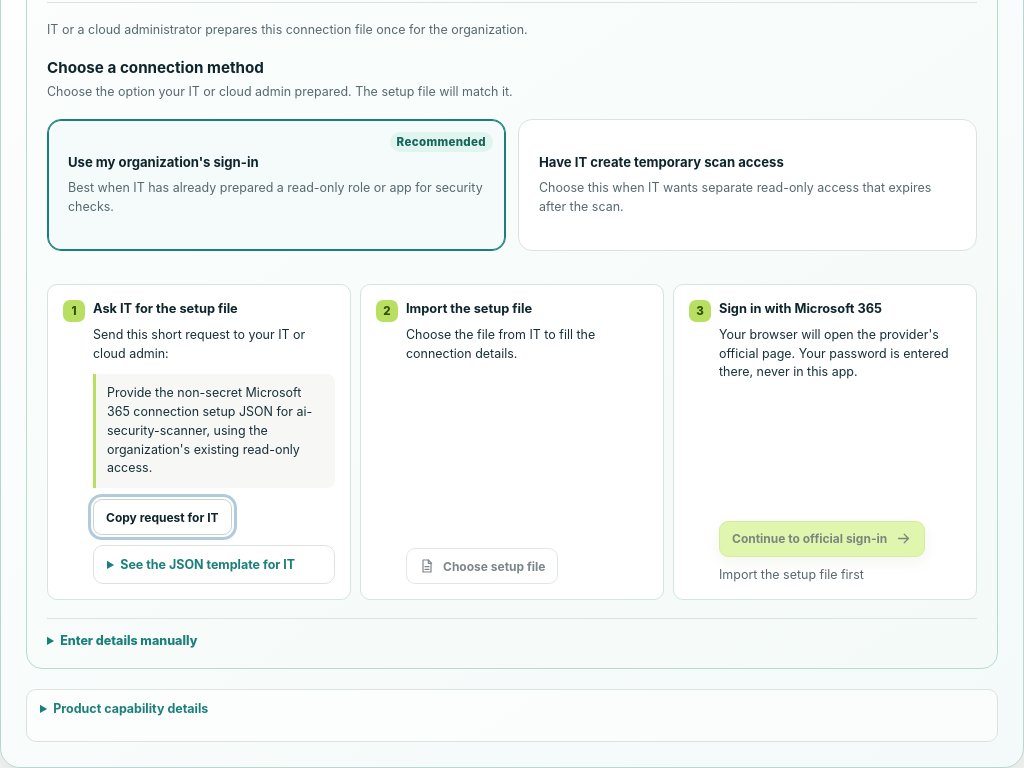
the IT request is neutral copy and the document fallback completes clipboard copy
The width and height of the screenshot is (1024, 768).
(page scrolled)
Click the button "Copy request for IT" at point(162, 517), box [93, 499, 232, 535]
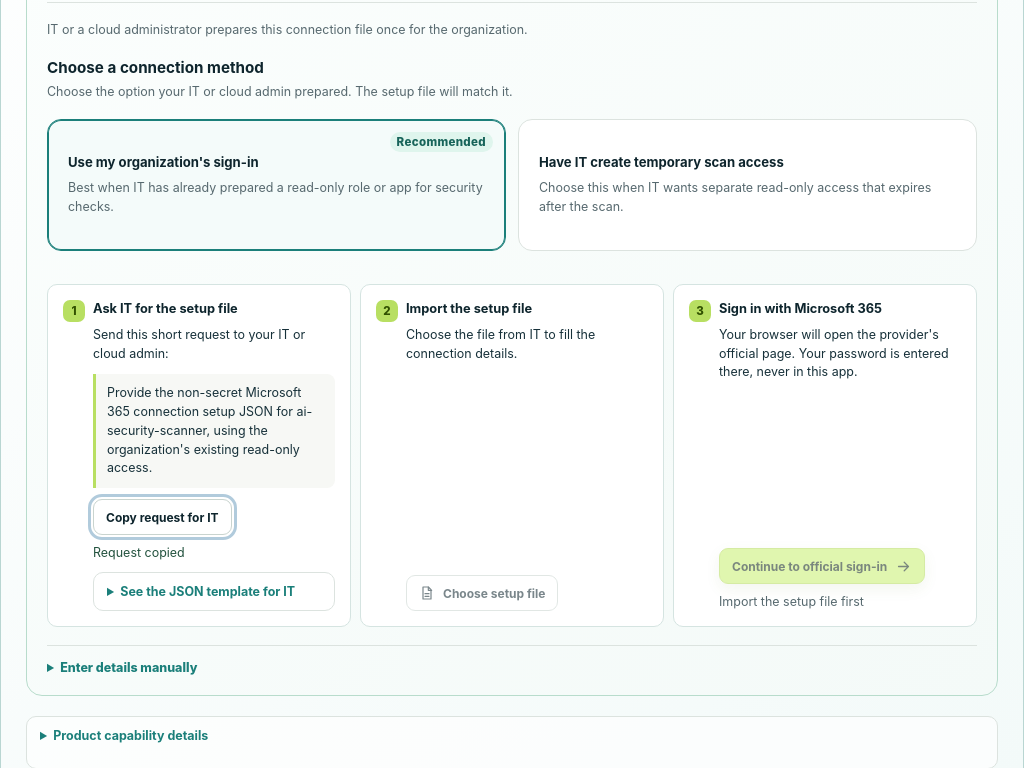
expect the message reads "Request copied": met, box [93, 545, 185, 560]
